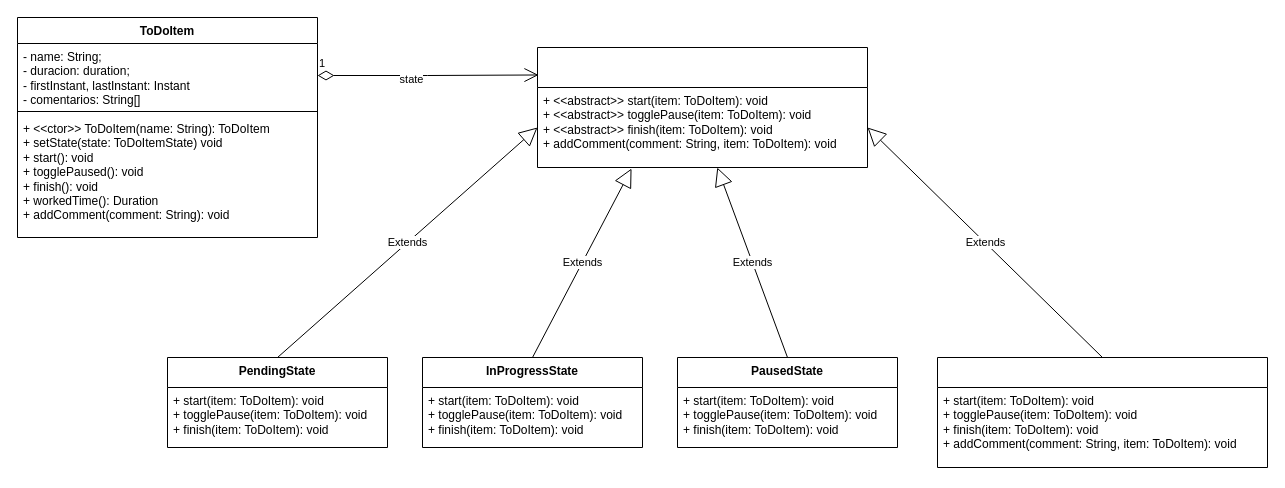
The diagram is 1285 pixels wide and 488 high, and some of its shapes have lost their labels. Here are the shapes that lost their labels. From the top down, the box of each, then its label:
(536, 46, 868, 168): <<abstract>> ToDoItemState
(936, 356, 1268, 468): FinishedState
